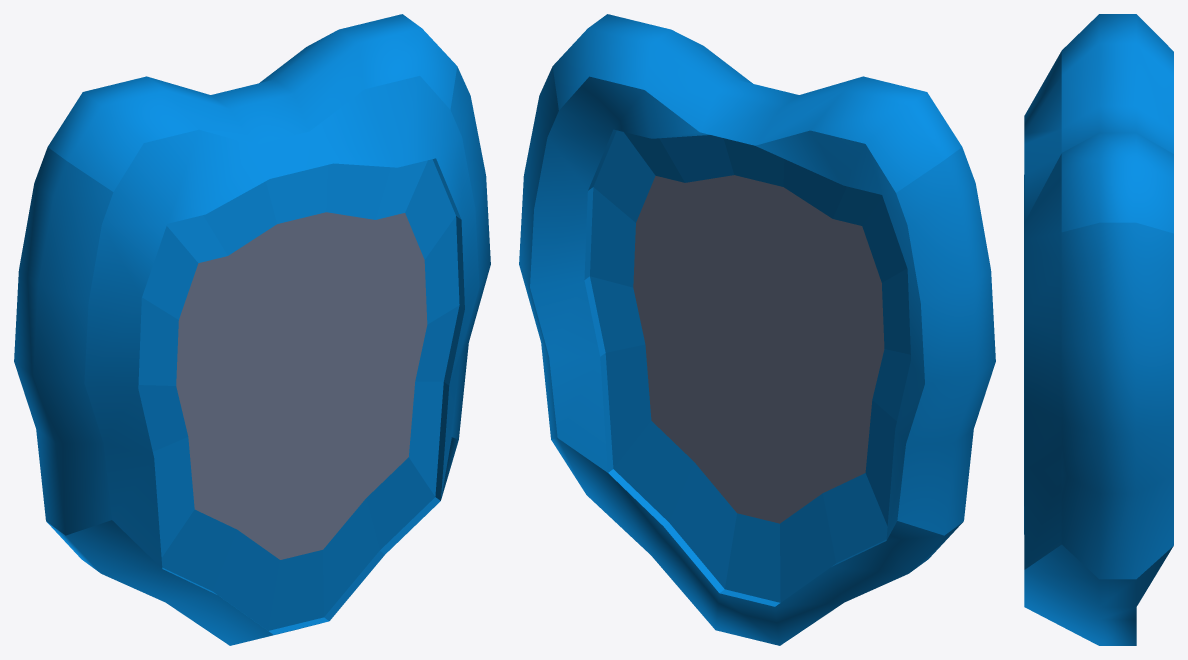
File: drop_defence.FBX
The picture shows the model from 3 angles, left to right: view 1: azimuth 30°, elevation 25°; view 2: azimuth 150°, elevation 25°; view 3: azimuth 270°, elevation 25°; orthographic projection. The views are drawn at different scales.
Parts seen in each view (by area): view 1: Box001; view 2: Box001; view 3: Box001.
Boxes of the visible parts, bbox=[...] form: Box001: bbox=[14, 14, 490, 645]; Box001: bbox=[519, 14, 995, 645]; Box001: bbox=[1024, 14, 1173, 645].
Bounding box in the file's own units: 12.59 × 15.01 × 3.75.
